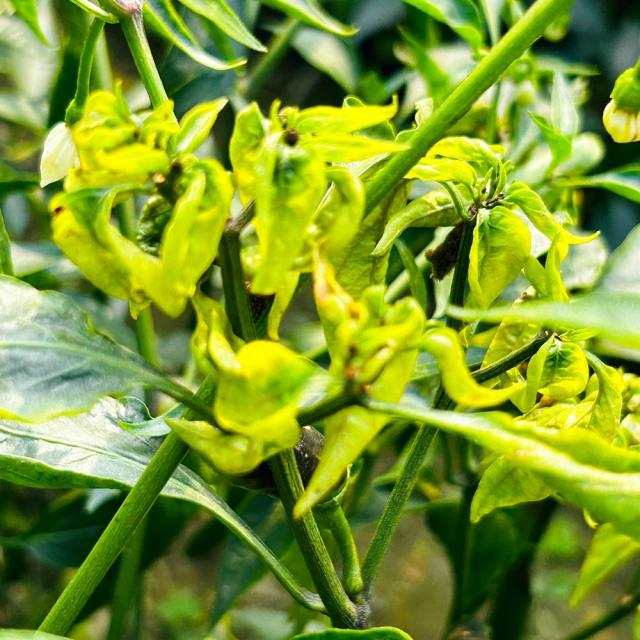Chilli_Leaf_Curl: (2, 1, 637, 636), (38, 83, 234, 320), (370, 135, 600, 316), (228, 92, 408, 294), (0, 273, 206, 425), (163, 295, 328, 476)
